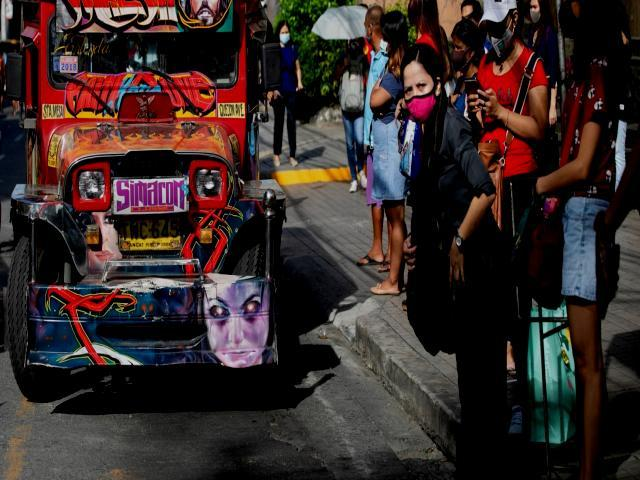jeepney: (8, 0, 290, 384)
